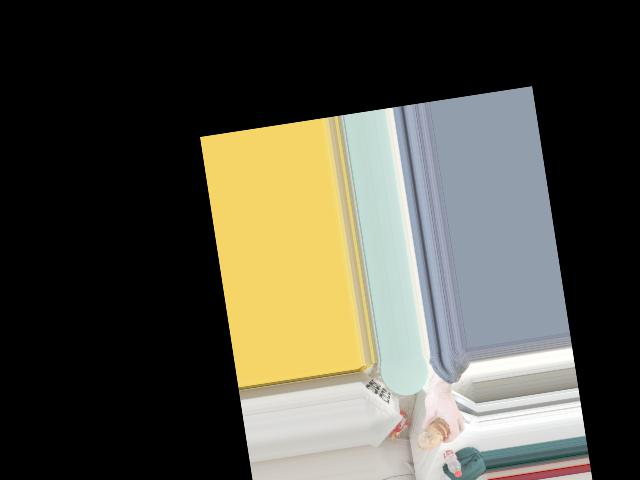sweet_potato: (415, 417, 449, 453)
